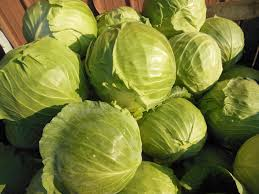cabbage: (42, 98, 143, 194), (86, 24, 181, 110), (1, 40, 88, 125), (138, 100, 210, 163), (169, 31, 229, 94), (18, 2, 106, 43), (201, 82, 259, 142)
